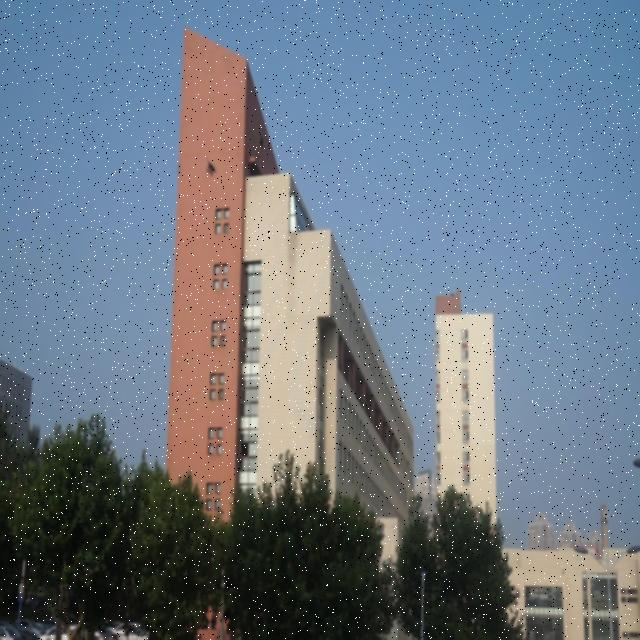UAV: (206, 157, 217, 177)
